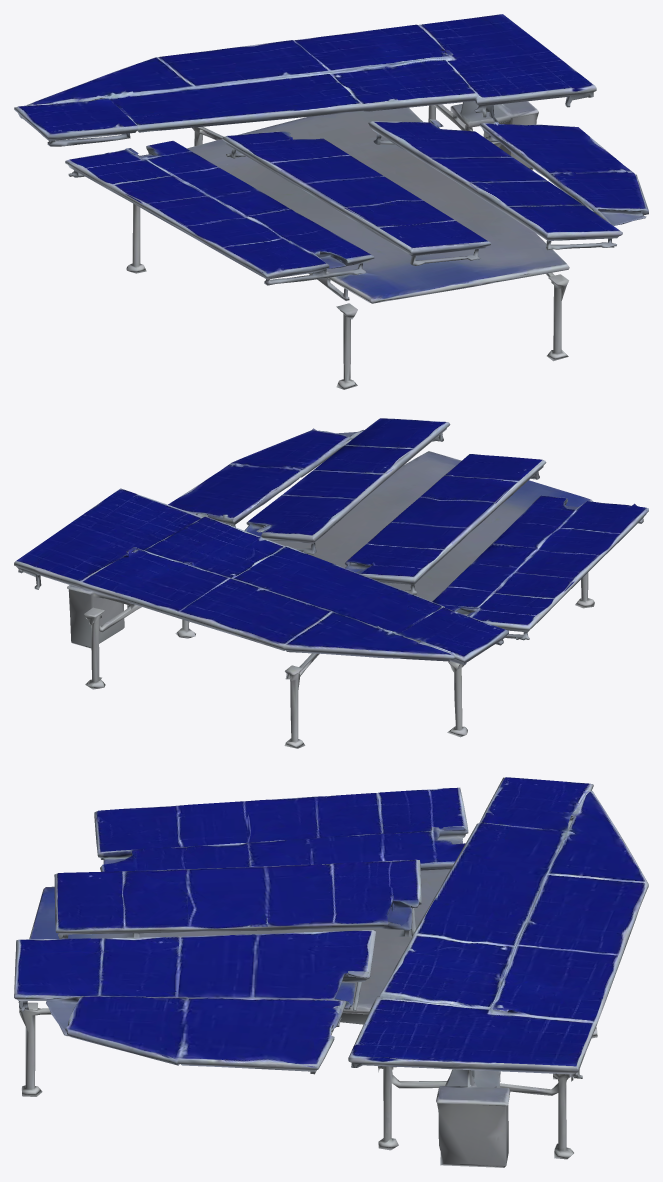
File: solar_array.glb
3 views of the same model, one above another, from view 1: azimuth 30°, elevation 25°; view 2: azimuth 150°, elevation 25°; view 3: azimuth 270°, elevation 25° (orthographic). The views are drawn at different scales.
Parts seen in each view (by area): view 1: tripo_node_170fe8bc-3956-4f05-a5ff-b6a3d01921ad; view 2: tripo_node_170fe8bc-3956-4f05-a5ff-b6a3d01921ad; view 3: tripo_node_170fe8bc-3956-4f05-a5ff-b6a3d01921ad.
Part boxes in pixels (left/top/right/bottom): tripo_node_170fe8bc-3956-4f05-a5ff-b6a3d01921ad: left=14, top=14, right=648, bottom=389; tripo_node_170fe8bc-3956-4f05-a5ff-b6a3d01921ad: left=14, top=418, right=648, bottom=748; tripo_node_170fe8bc-3956-4f05-a5ff-b6a3d01921ad: left=14, top=777, right=648, bottom=1167.
Bounding box in the file's own units: 0.9967 × 0.2707 × 1.
Materials: 1 (1 with a texture image).
